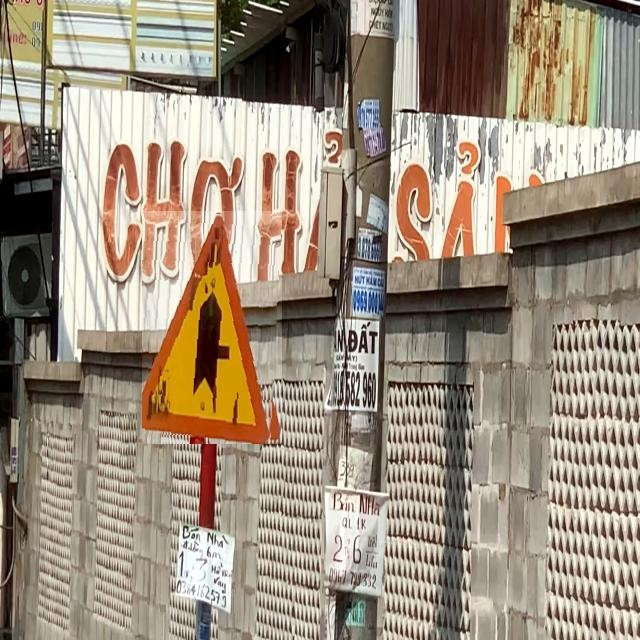bien_nguy_hiem: (142, 211, 282, 444)
